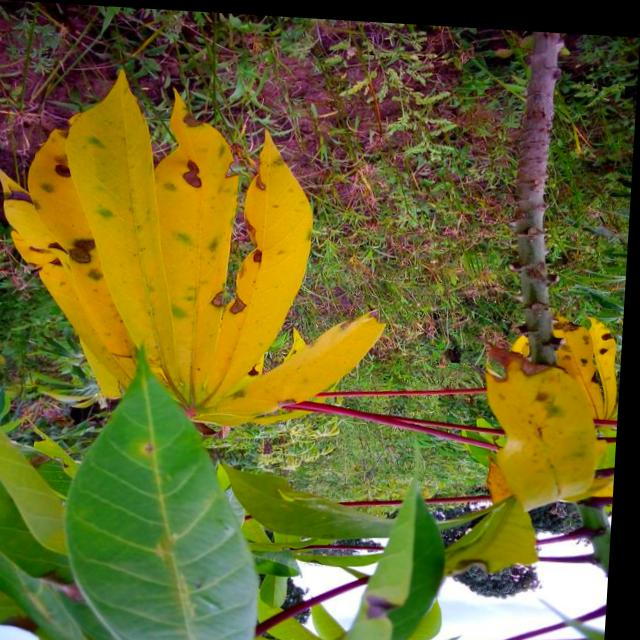Mosaico: (32, 69, 373, 442), (481, 287, 623, 517)
